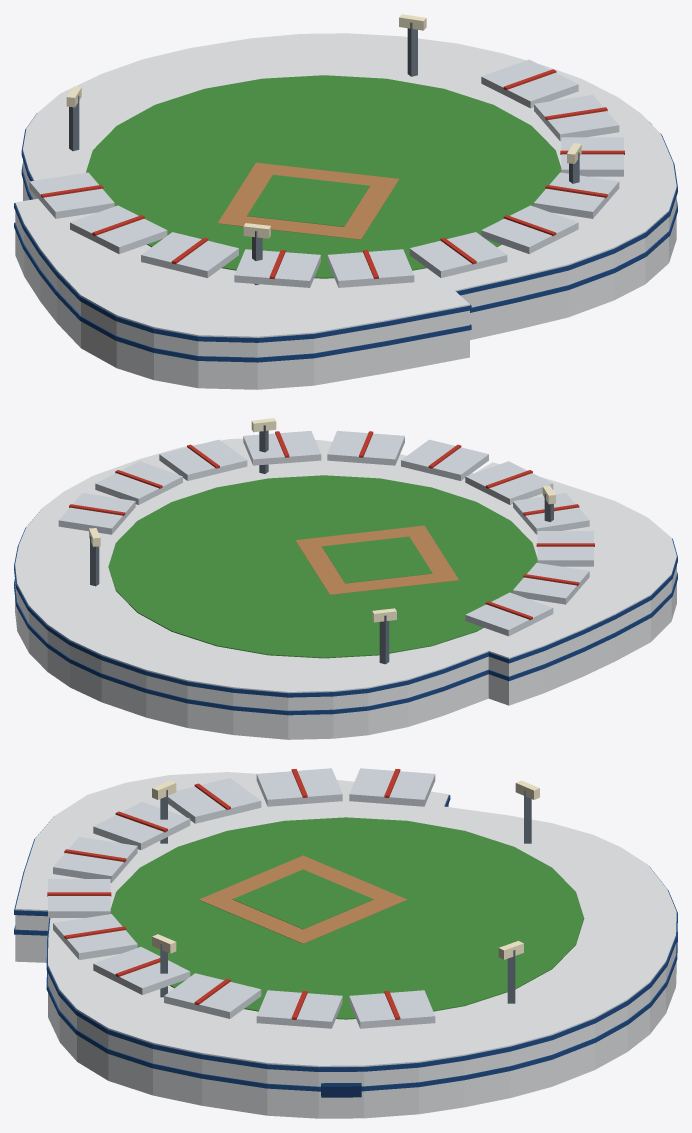
The model's file is intercontinental-stadium.glb.
The picture shows the model from 3 angles, top to bottom: view 1: azimuth 30°, elevation 25°; view 2: azimuth 150°, elevation 25°; view 3: azimuth 270°, elevation 25°; orthographic projection. The views are drawn at different scales.
Visible parts, largest first — view 1: intercontinental-stadium; view 2: intercontinental-stadium; view 3: intercontinental-stadium.
Boxes of the visible parts, bbox=[...] form: intercontinental-stadium: bbox=[14, 14, 677, 389]; intercontinental-stadium: bbox=[14, 418, 677, 739]; intercontinental-stadium: bbox=[14, 768, 677, 1118].
Size of the model in its own units: 203 by 34.8 by 191.
